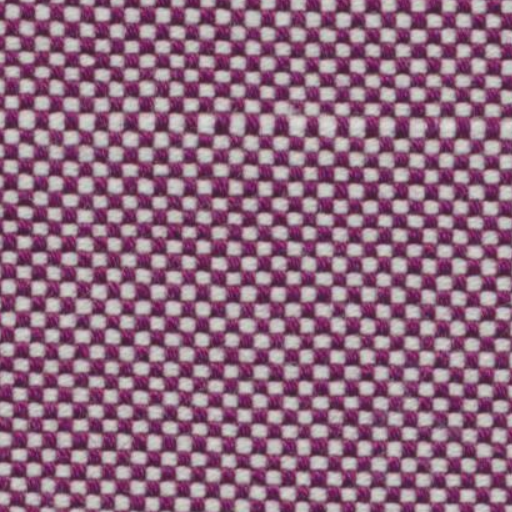TuoSha: (6, 92, 500, 158)
